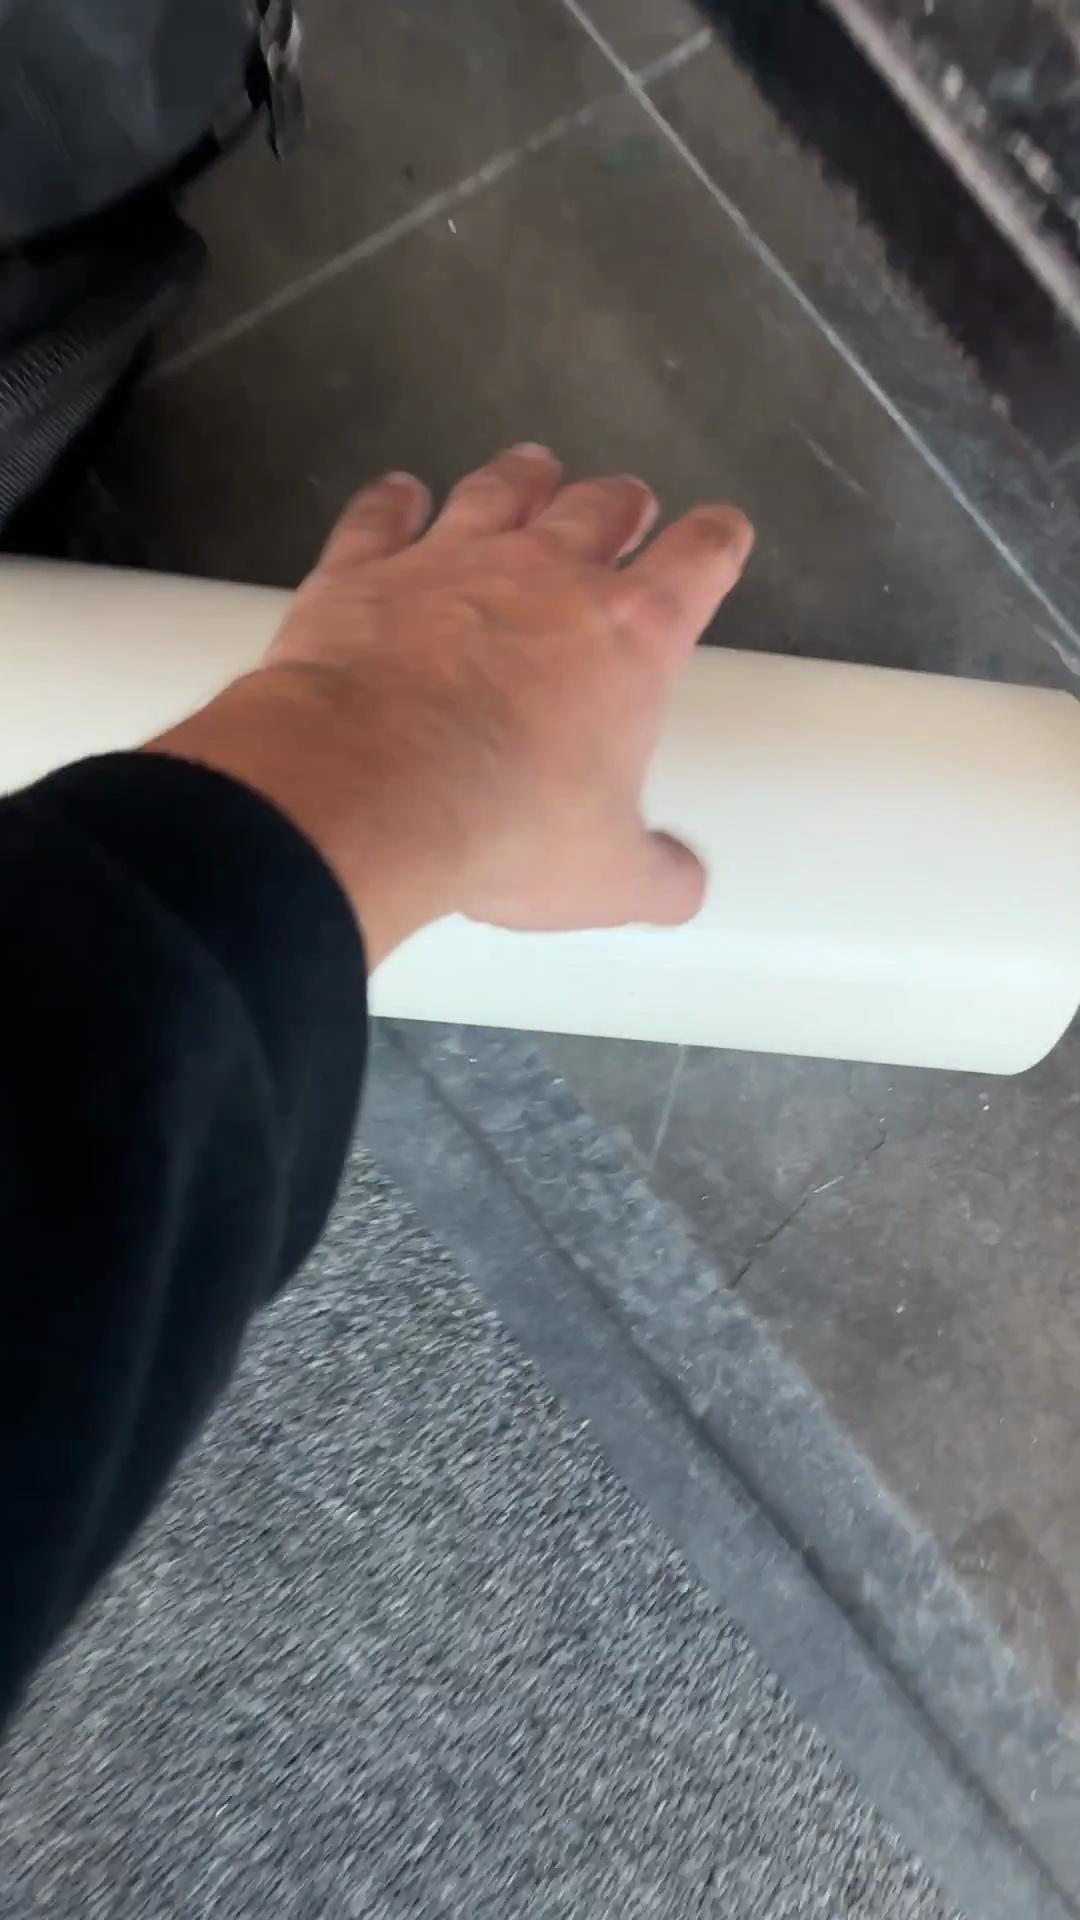CORAL: (0, 539, 1080, 1079)
